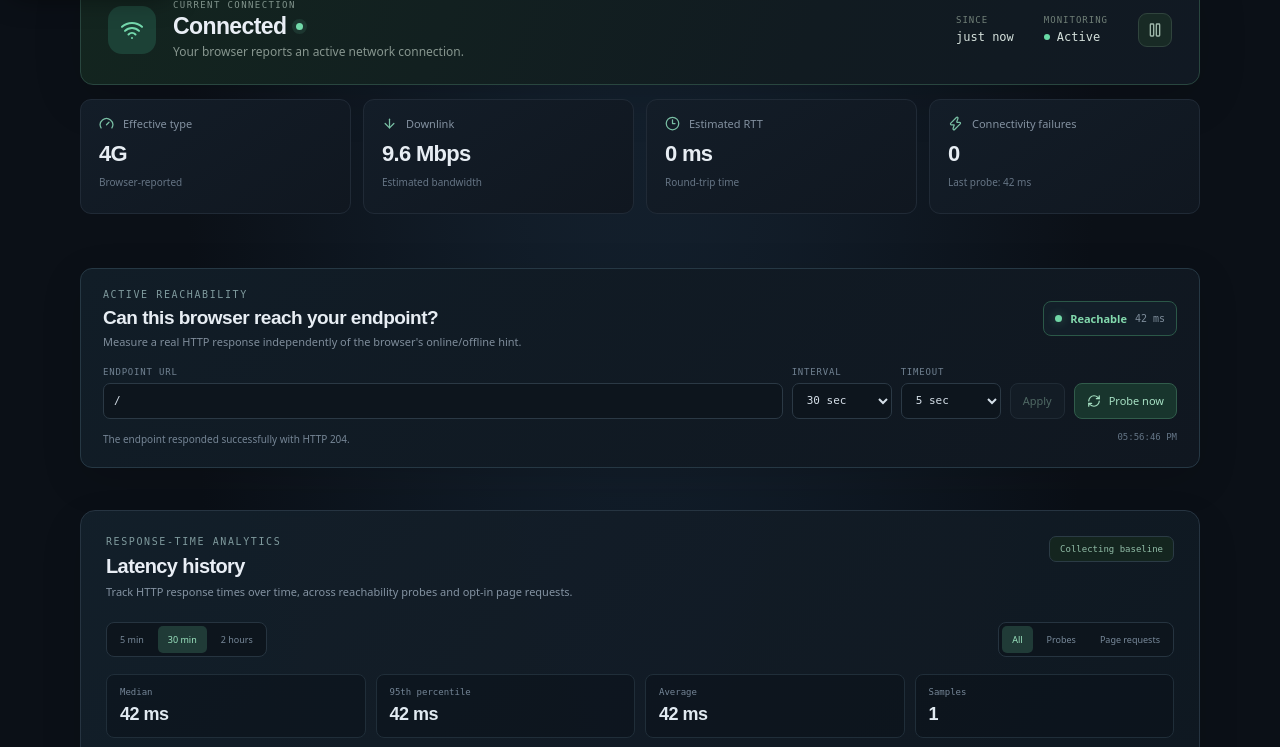
Test case: Network State dashboard reachability controls › does not retain a configured endpoint URL in the activity stream
(page scrolled)
Expected: the text "Reachable" is shown, [1070,311,1127,326]
Replace the text in the field named "Reachability endpoint URL" with "https://api.example.test/health?token=private-value": (443,400) [103,382,783,418]
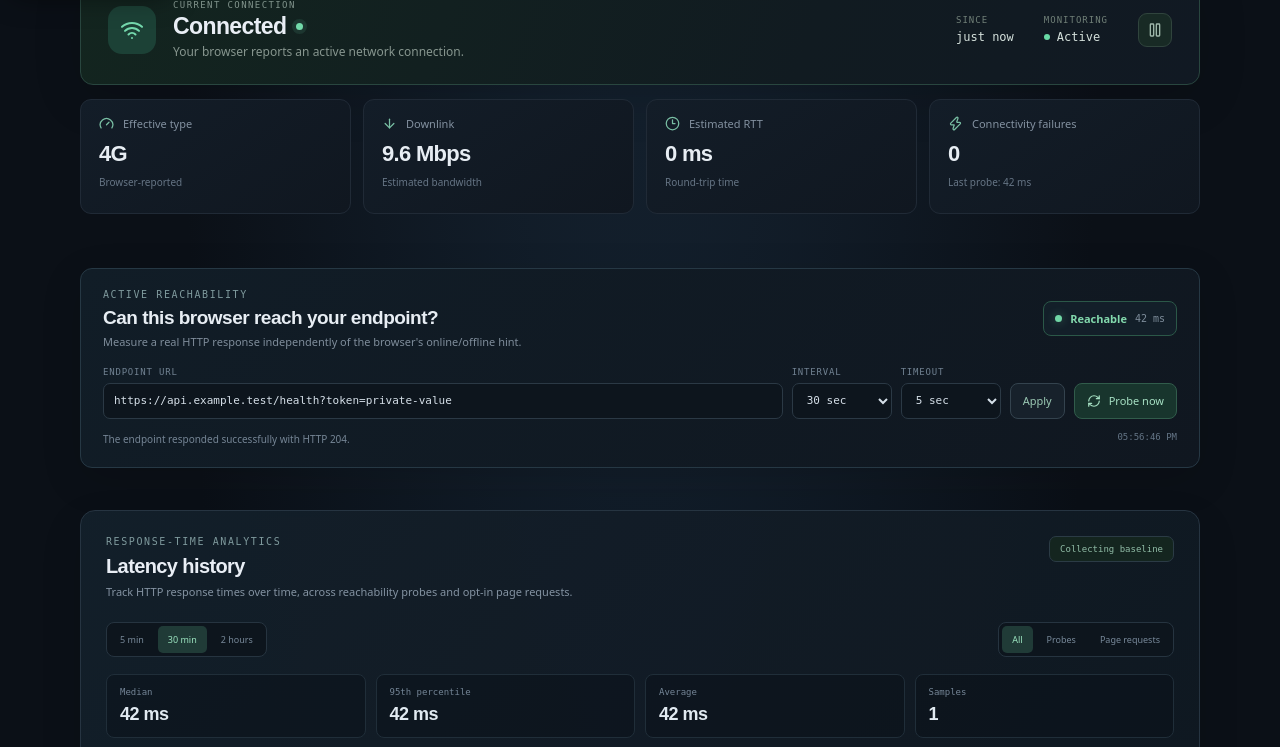
Click the button "Apply": (1037,400) [1010,382,1065,418]
(page scrolled)
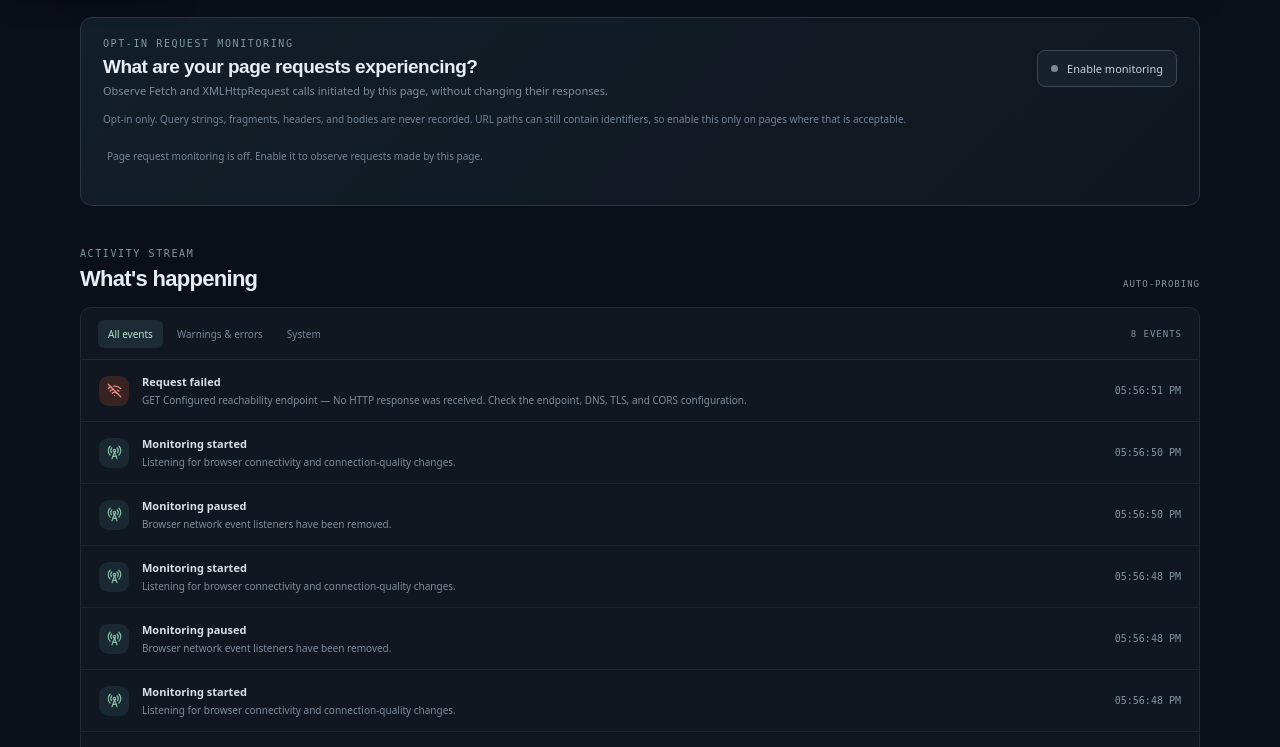
Expected: the text "private-value" is not shown
Expected: the text "Configured reachability endpoint" is shown, [142,394,747,408]
